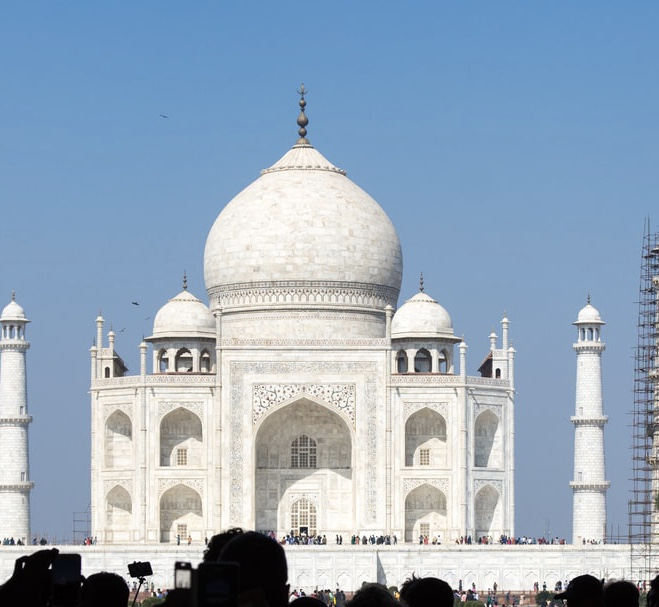Mosque: (5, 96, 613, 559)
